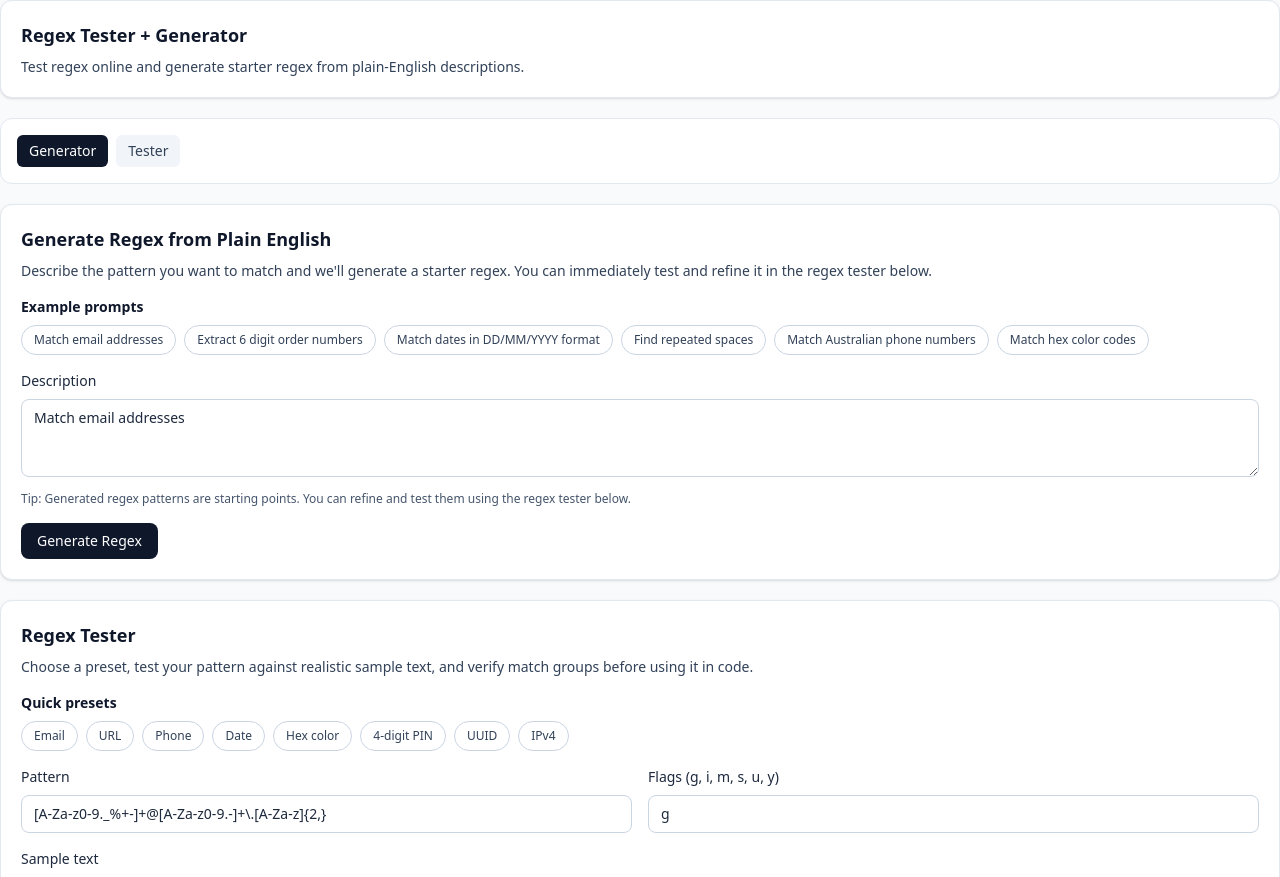
it: RegexTesterTool › applies quick presets to tester fields
Click the button with aria-label "Apply UUID preset": [482, 736] box [454,721,510,751]
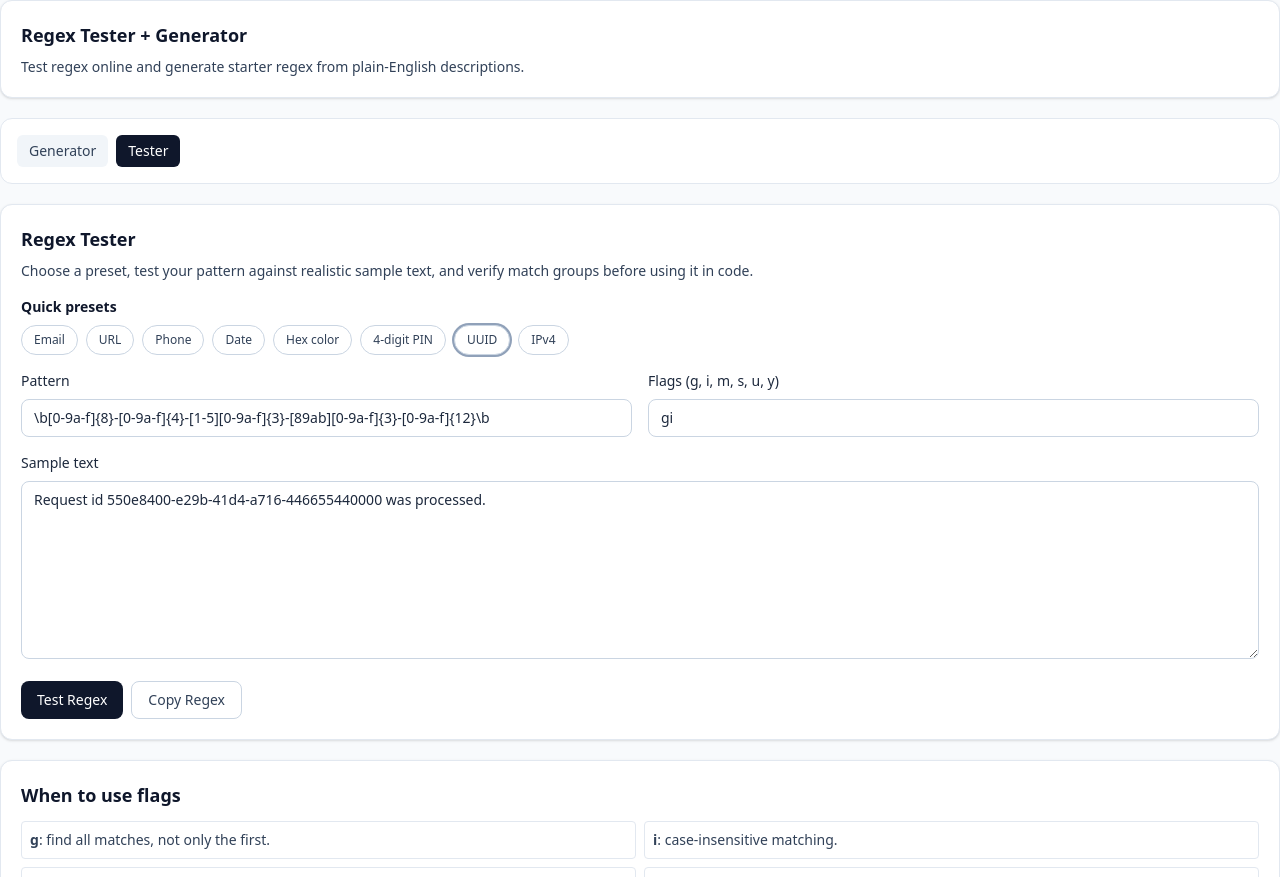
Result: the field showing "\\b[0-9a-f]{8}-[0-9a-f]{4}-[1-5][0-9a-f]{3}-[89ab][0-9a-f]{3}-[0-9a-f]{12}\\b" is shown at [21,399,632,437]
Result: the field showing "gi" is shown at [648,399,1259,437]
